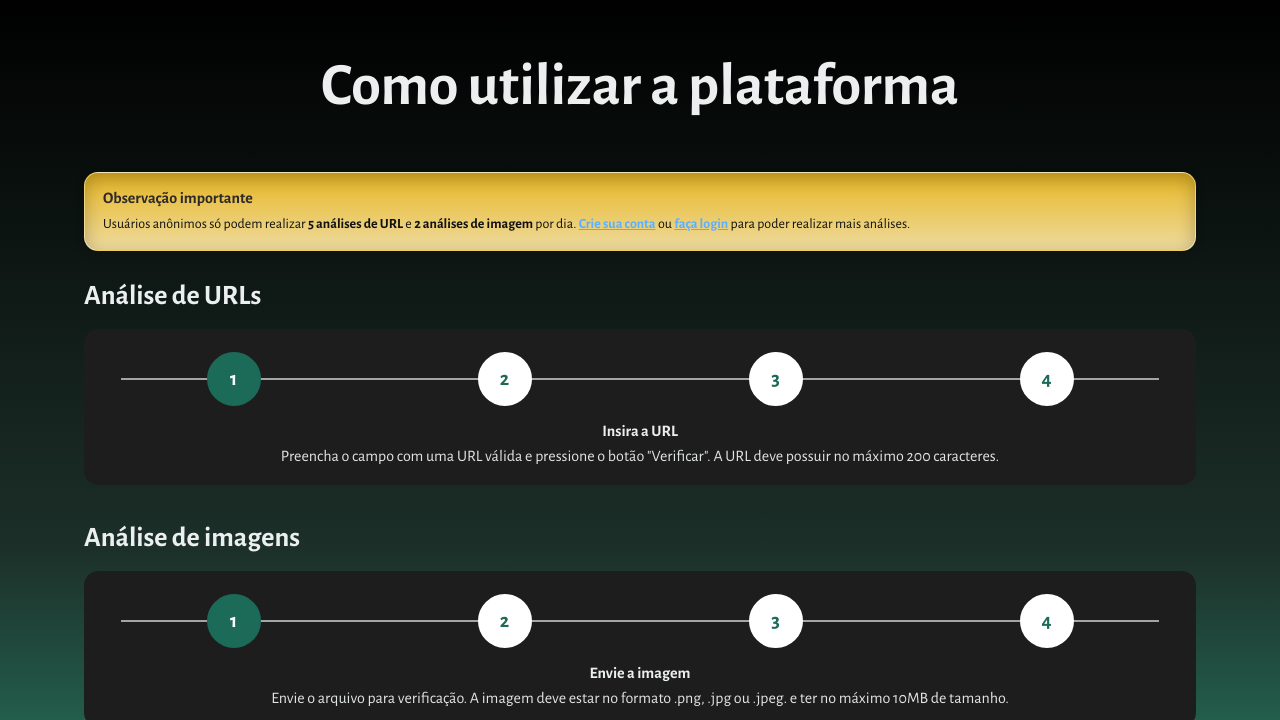
Test: Instructions › alterna etapas ao clicar nos botões
Expected: the text "Insira a URL" is shown, [602,423,678,439]
Click the button named "etapa 2: verificações": x=504, y=379 [478,352,532,406]
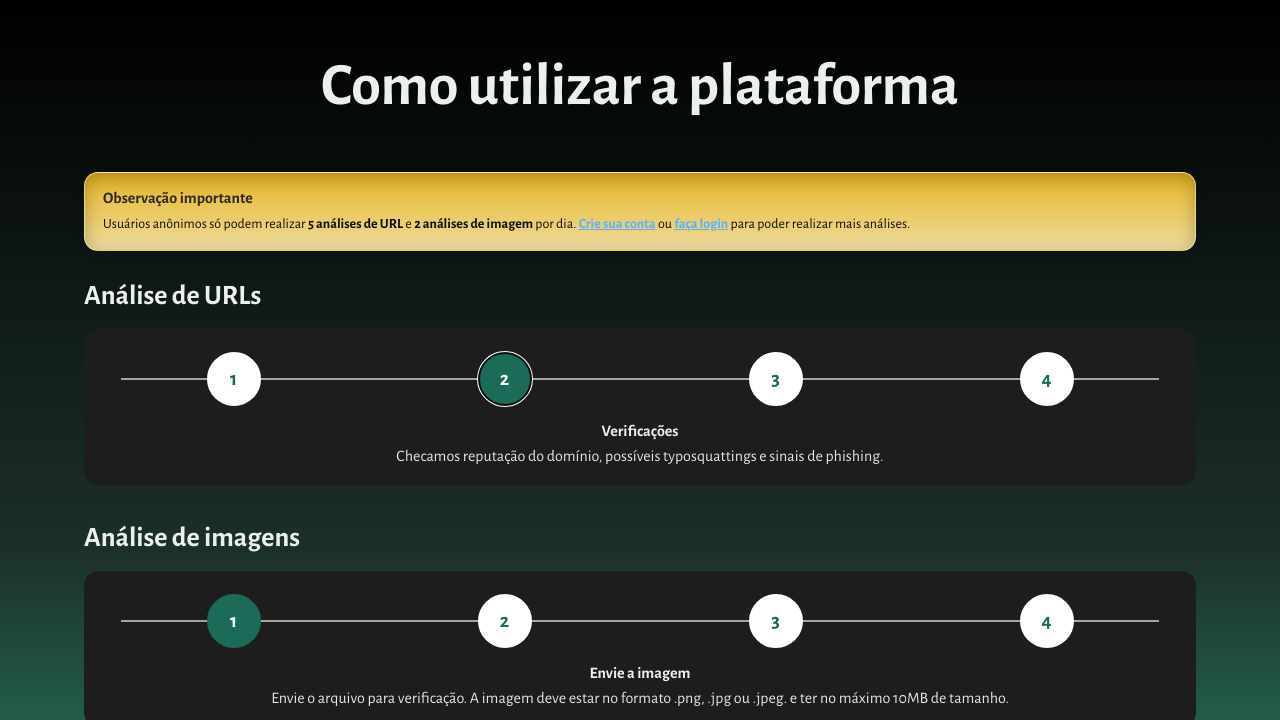
Now the text "Verificações" is shown, box [602,423,678,439]
